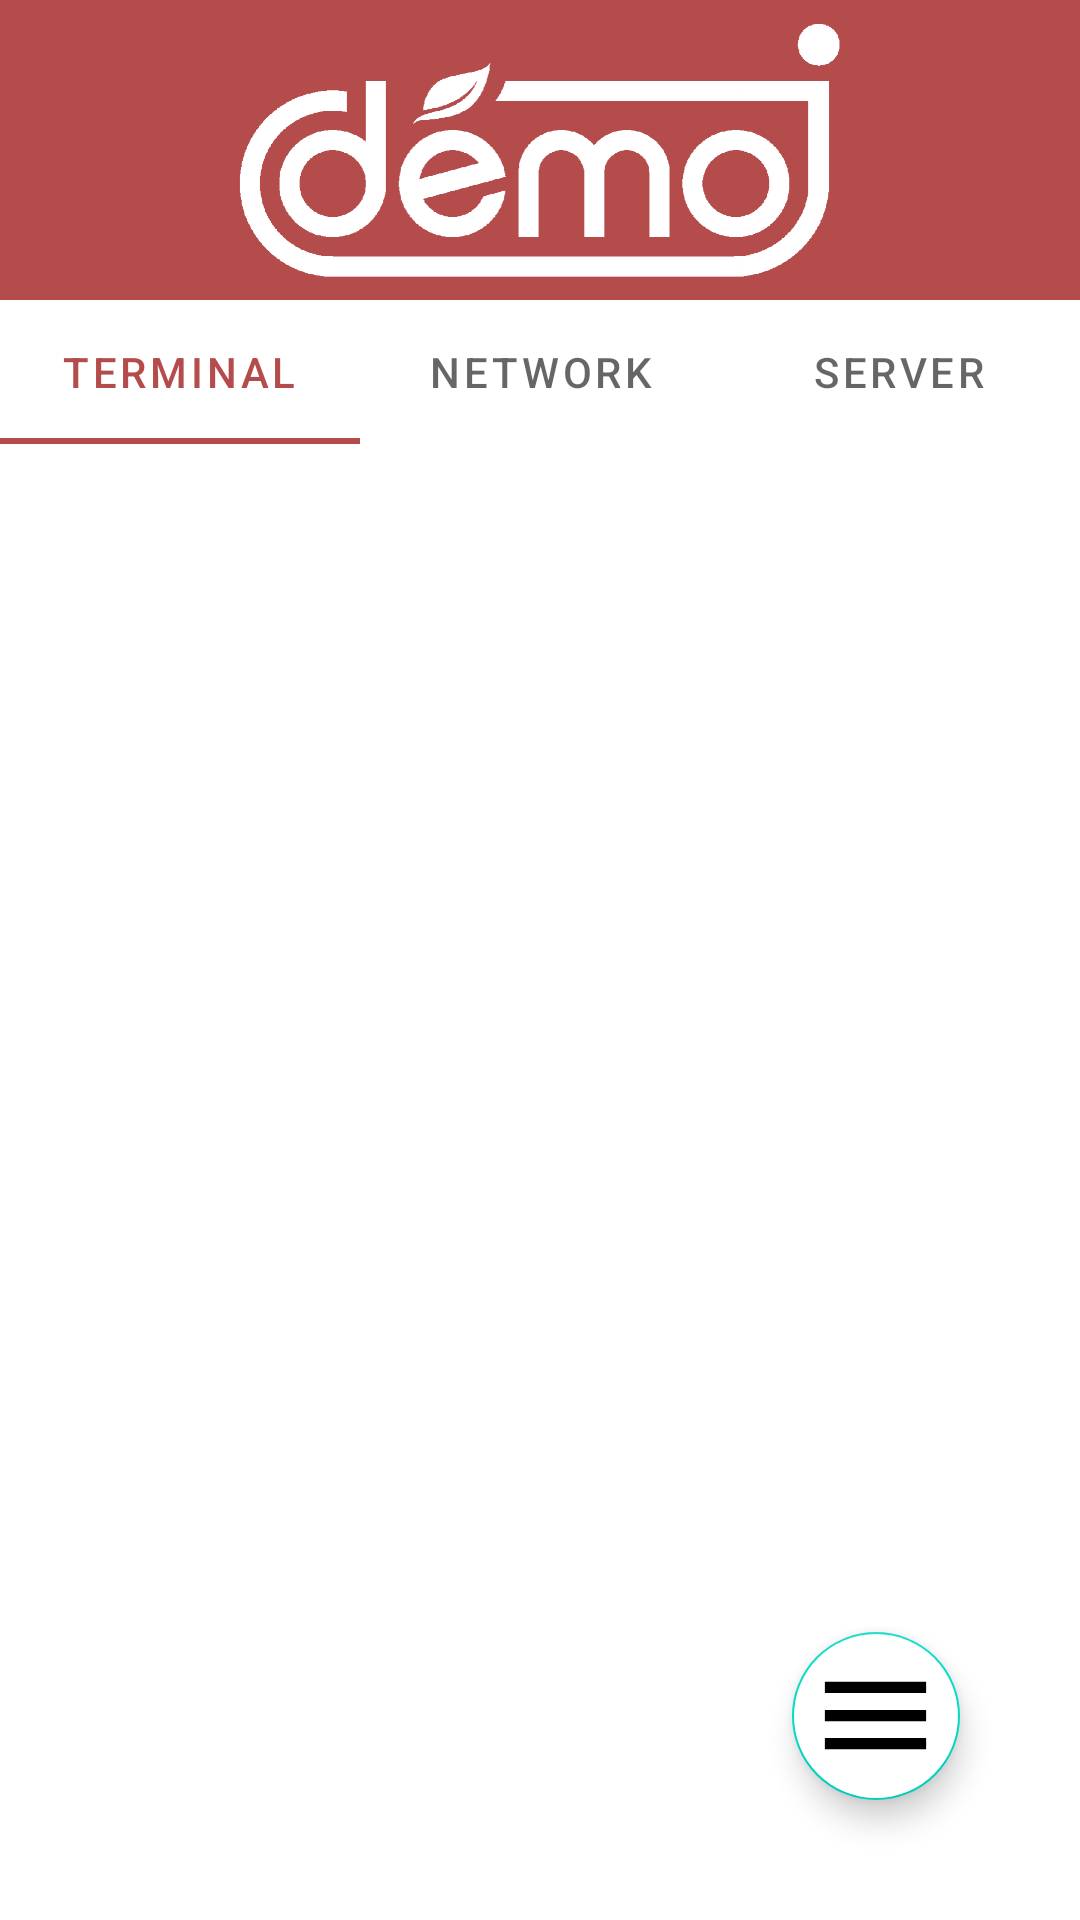

Locate icon controls on the screen. Image size 1080 × 1920, boxes as bbox=(x1, y1, x2, y2).
burger: bbox=(824, 1681, 927, 1750)
